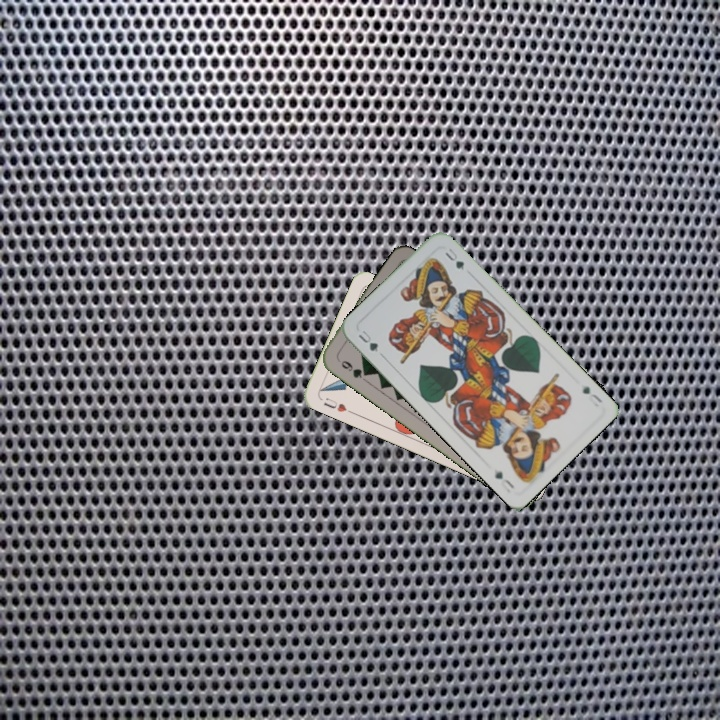G9: (337, 356, 371, 381)
GU: (354, 326, 381, 355), (578, 381, 605, 408)
HU: (320, 393, 349, 415)
